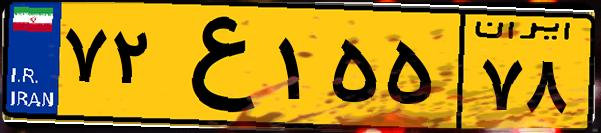1: (270, 28, 330, 110)
2: (110, 28, 158, 98)
5: (385, 28, 445, 110), (330, 28, 385, 110)
7: (57, 26, 110, 100), (475, 38, 525, 113)
8: (525, 38, 570, 115)
ع: (158, 12, 270, 120)
